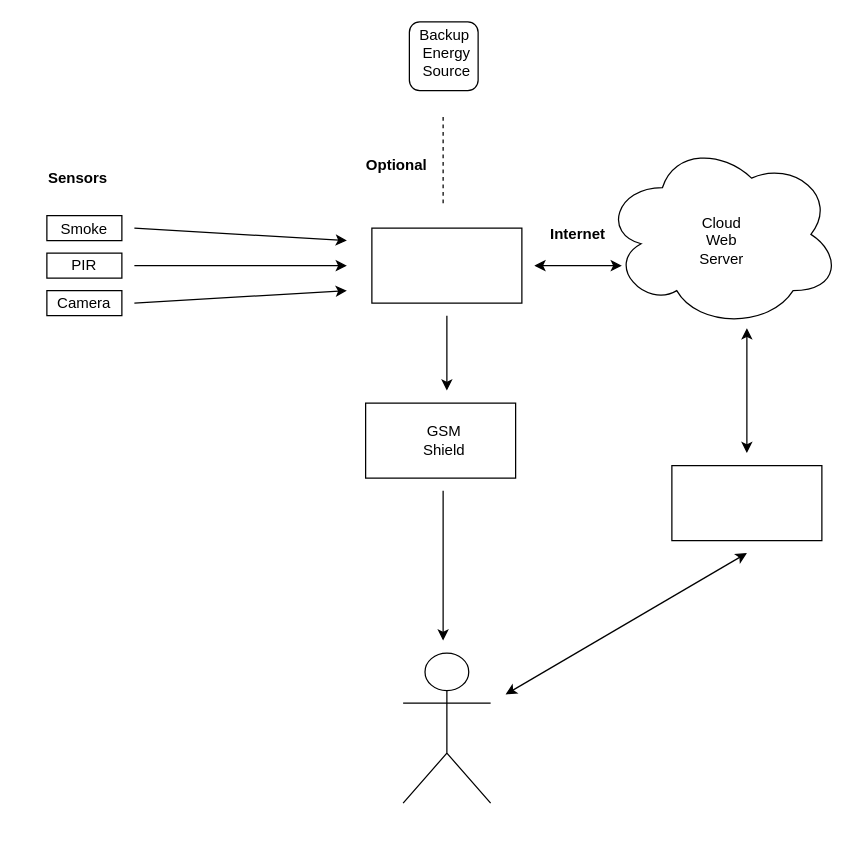
Image size: 863x851. Some labels were removed from this diagram. The box of each missing label's shape, as (x1, y1, x2, y2) in pixels:
Mobile APP Android: (671, 464, 822, 541)
Raspberry Pi: (371, 227, 522, 303)
User: (402, 652, 491, 803)
